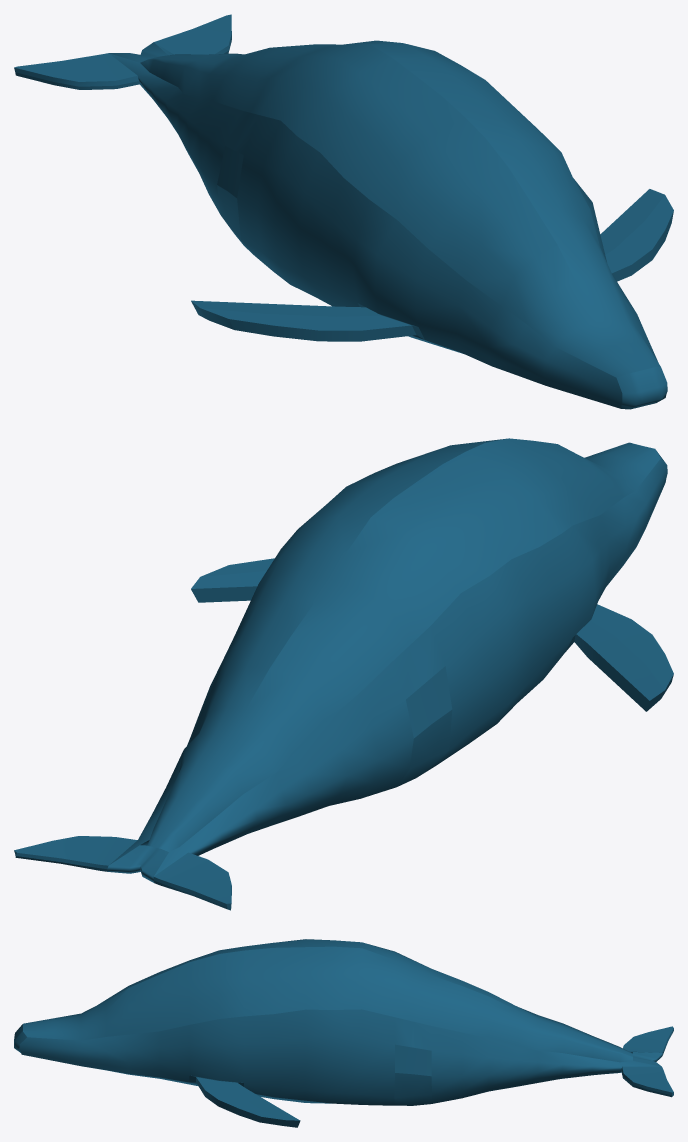
Rendered from Iruka.fbx.
The picture shows the model from 3 angles, top to bottom: view 1: azimuth 30°, elevation 25°; view 2: azimuth 150°, elevation 25°; view 3: azimuth 270°, elevation 25°; orthographic projection. The views are drawn at different scales.
Parts seen in each view (by area): view 1: iruka_body; view 2: iruka_body; view 3: iruka_body.
Part boxes in pixels (x1=…): iruka_body: x1=14, y1=14, x2=673, y2=409; iruka_body: x1=14, y1=438, x2=673, y2=910; iruka_body: x1=14, y1=939, x2=673, y2=1127.
Bounding box in the file's own units: 457 × 212 × 898.
